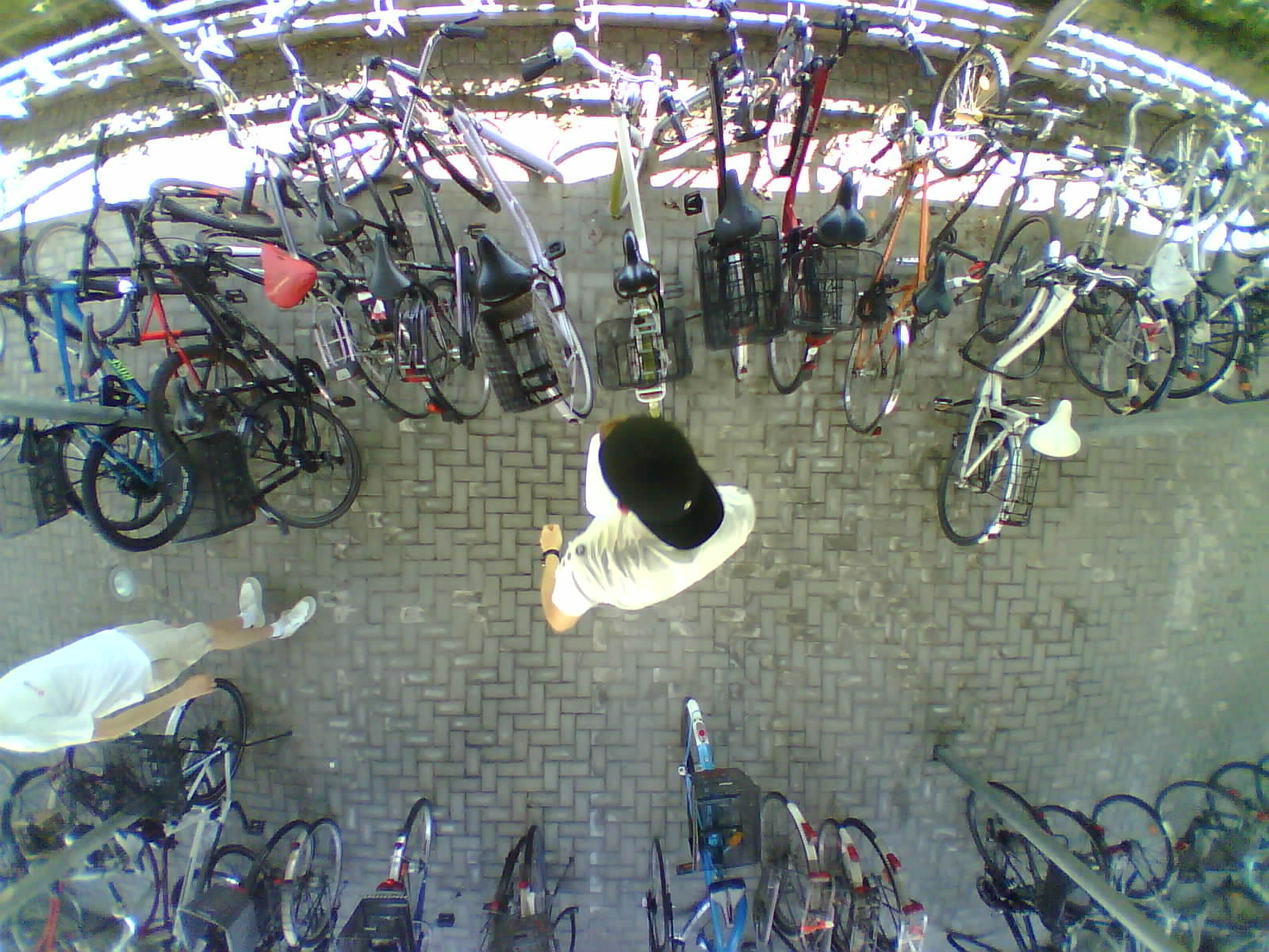bicylce: (227, 132, 428, 422), (179, 240, 365, 513), (460, 60, 599, 420), (940, 231, 1091, 548), (11, 227, 171, 523), (582, 55, 710, 419), (652, 59, 778, 382), (120, 181, 266, 455), (386, 65, 497, 418), (52, 260, 185, 548), (842, 119, 960, 435), (1017, 147, 1163, 396), (932, 41, 1043, 323), (158, 668, 261, 952), (763, 11, 838, 392), (1146, 103, 1239, 409), (665, 698, 767, 952), (1106, 137, 1186, 412)
saddle: (699, 162, 773, 250), (805, 166, 876, 254), (603, 223, 670, 304), (247, 239, 323, 307), (462, 234, 533, 303), (1028, 396, 1091, 464), (359, 219, 407, 306), (304, 181, 363, 245), (1149, 236, 1194, 306), (908, 250, 957, 312), (995, 245, 1030, 312), (168, 376, 207, 429), (54, 830, 105, 867), (1200, 249, 1239, 297), (76, 312, 101, 375), (116, 823, 144, 877), (16, 416, 44, 465)
